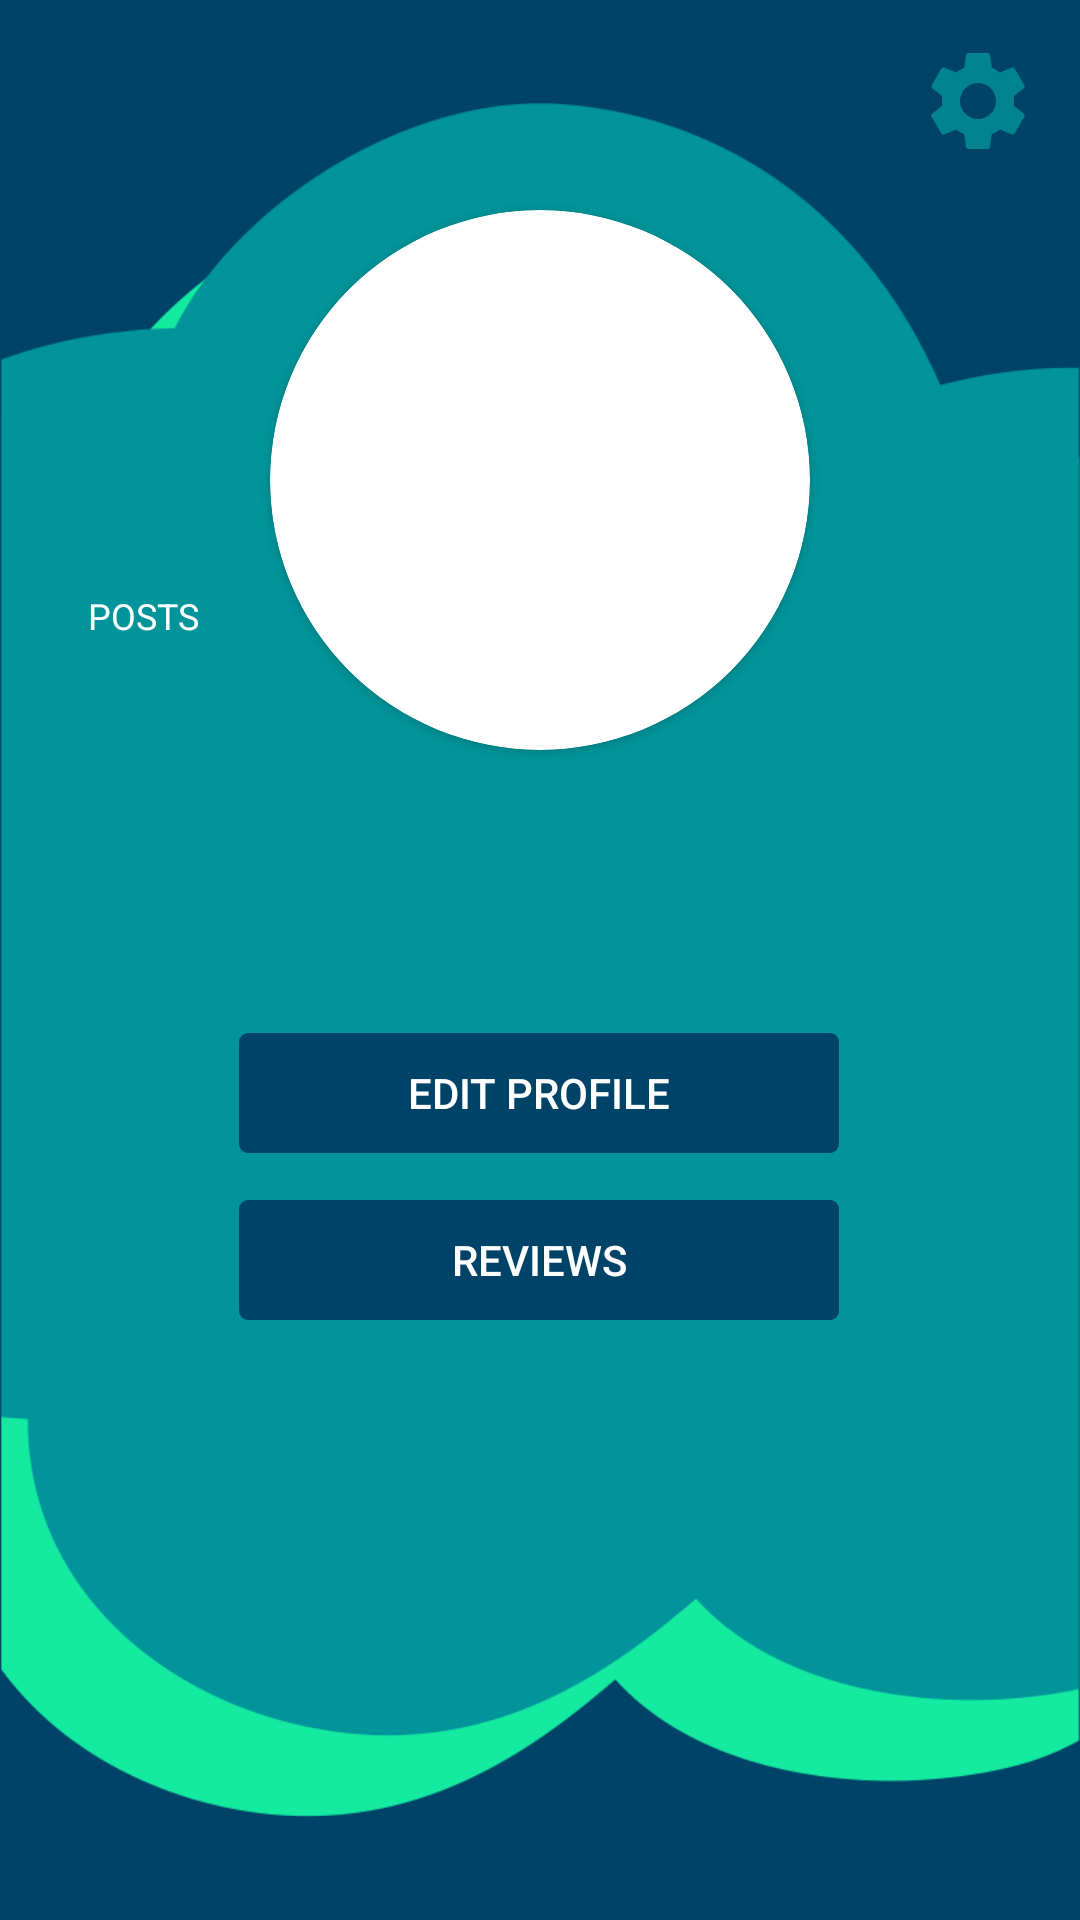

Named icons in this screenshot (1080×1920) and their bounding boxes, bbox=(x1, y1, x2, y2):
settings: bbox=(931, 53, 1025, 149)
